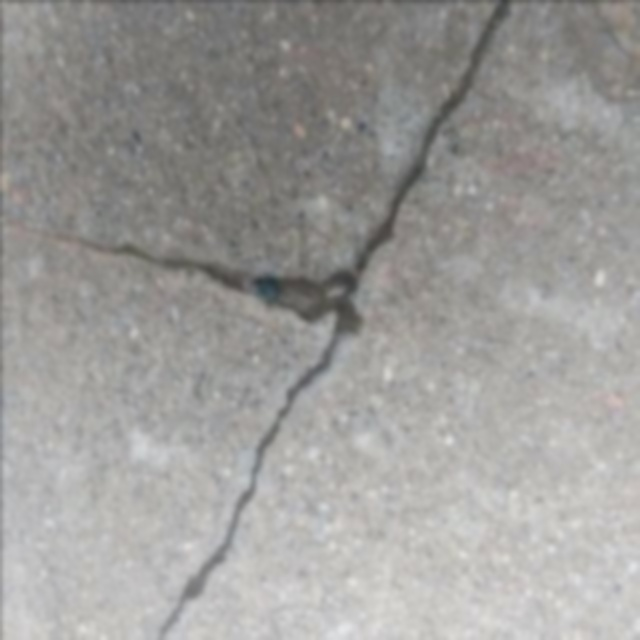SurfaceCrack: (92, 4, 522, 630)
